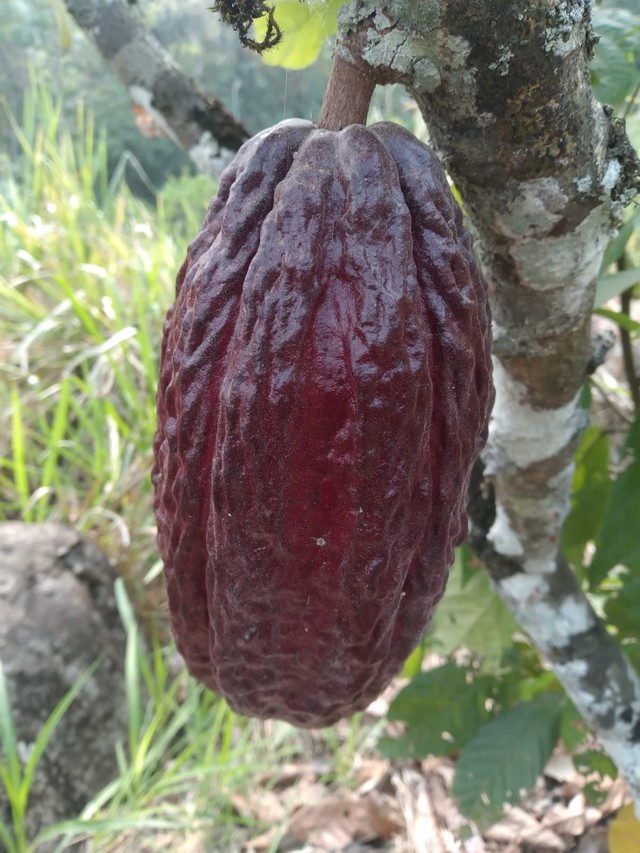Health: (137, 101, 503, 736)
